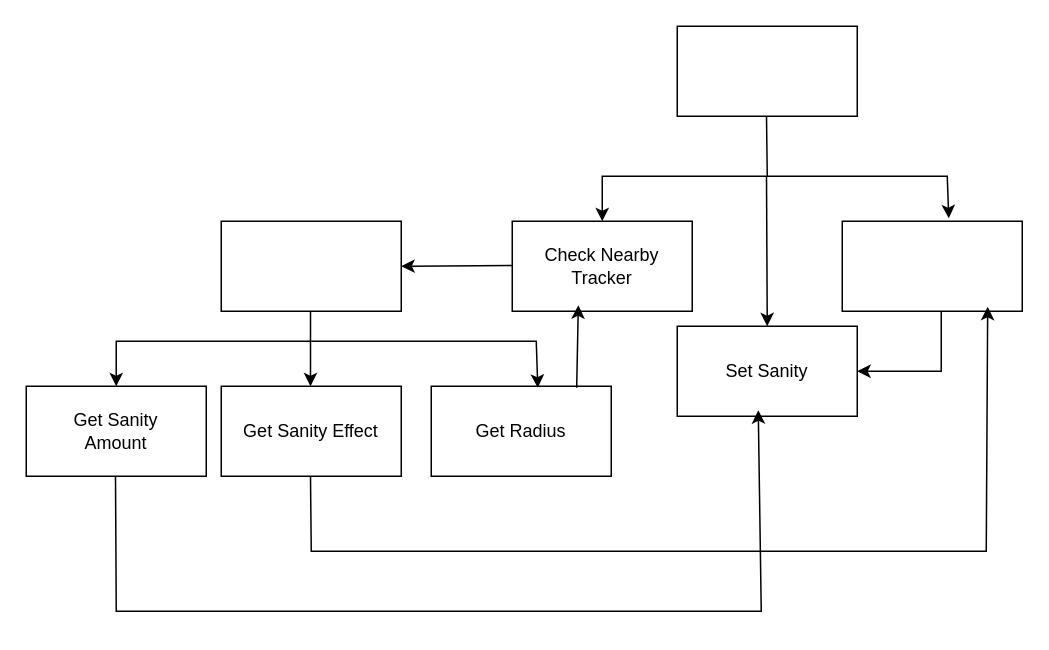
The diagram is 1049 pixels wide and 650 high, and some of its shapes have lost their labels. The shapes that lost their labels are listed below. From the top down, each one's centre as x and y in pixels, then its label:
At (x=766, y=70): "Sanity System".
At (x=310, y=265): "Sanity Tracker".
At (x=931, y=265): "Verify Sanity".
